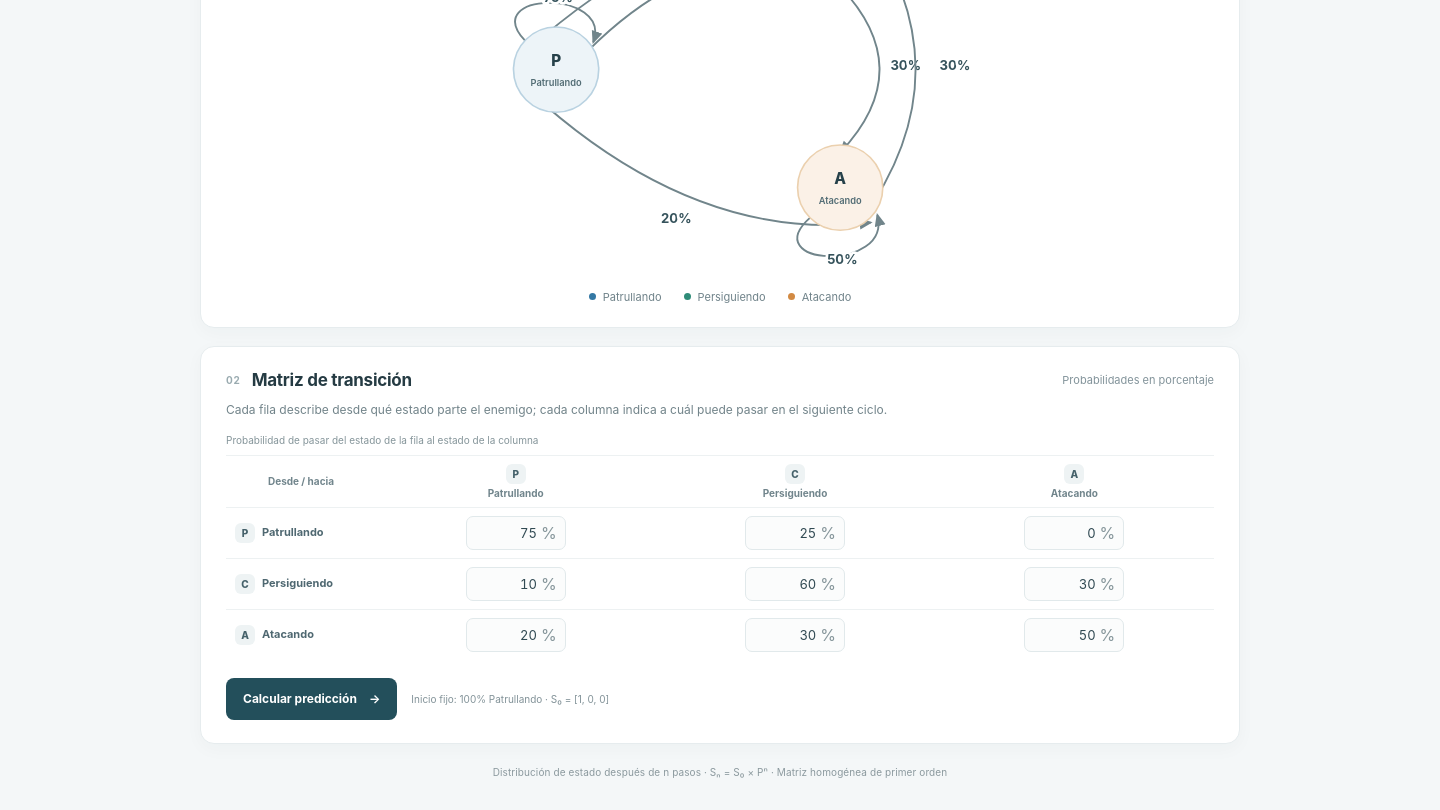
Test: Enemy Behavior Predictor › allows editing values and blocks an invalid row with a clear message
The image size is (1440, 810).
(page scrolled)
Replace the text in the number field named "Patrullando a Patrullando" with "70" at (506, 532), box [475, 524, 537, 540]
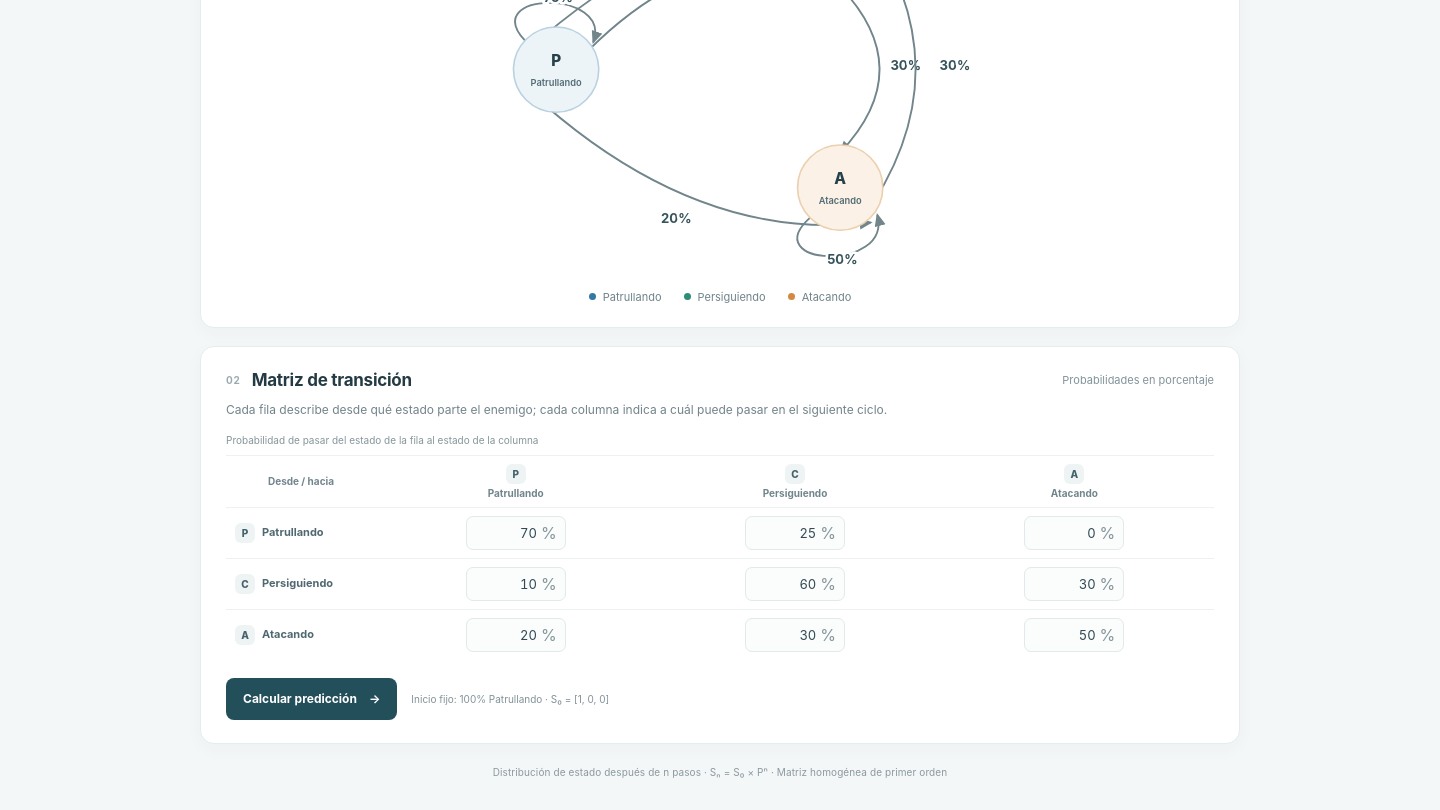
Click the button "Calcular predicción →" at (312, 698), box [226, 678, 397, 720]
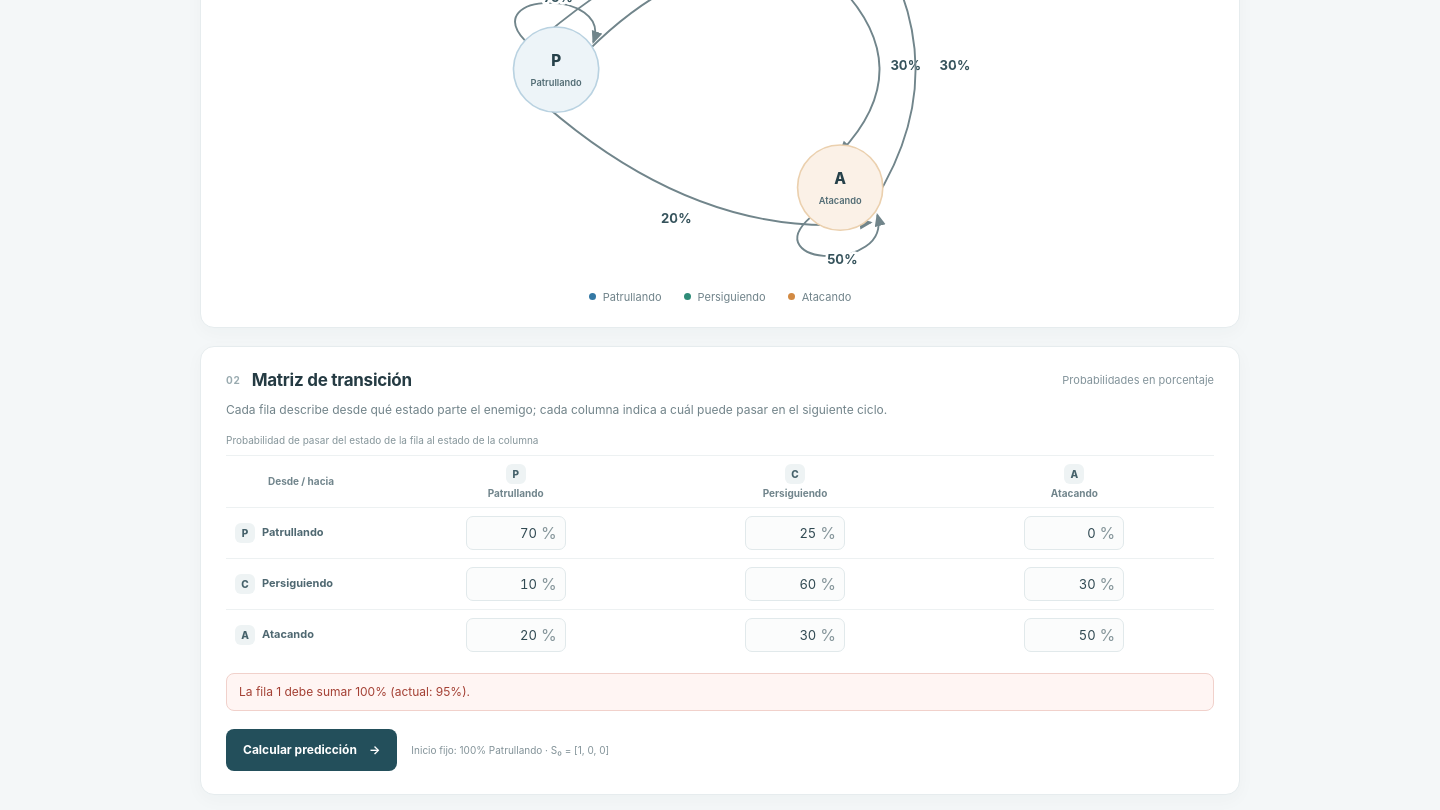
Now the message shows "fila 1 debe sumar 100%", box [239, 684, 470, 698]
